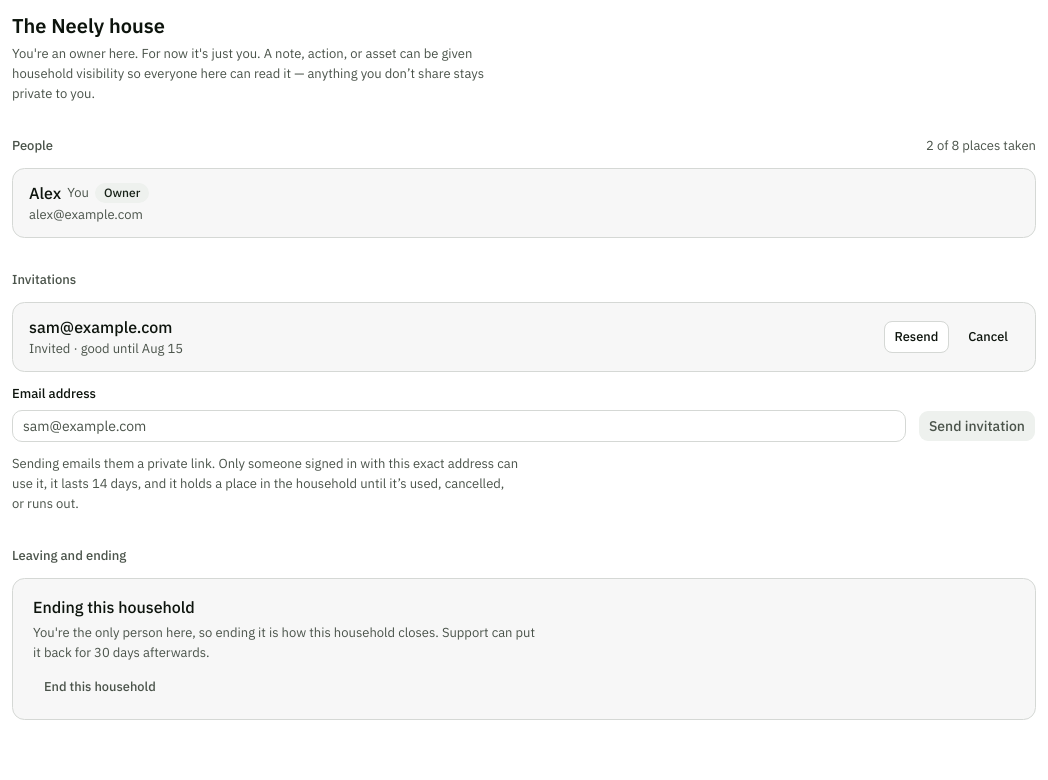
it: household invitations › cancels an invitation and gives the place back
This screenshot has width=1048, height=780.
Click the button "Cancel": (988, 337) left=957, top=321, right=1019, bottom=353
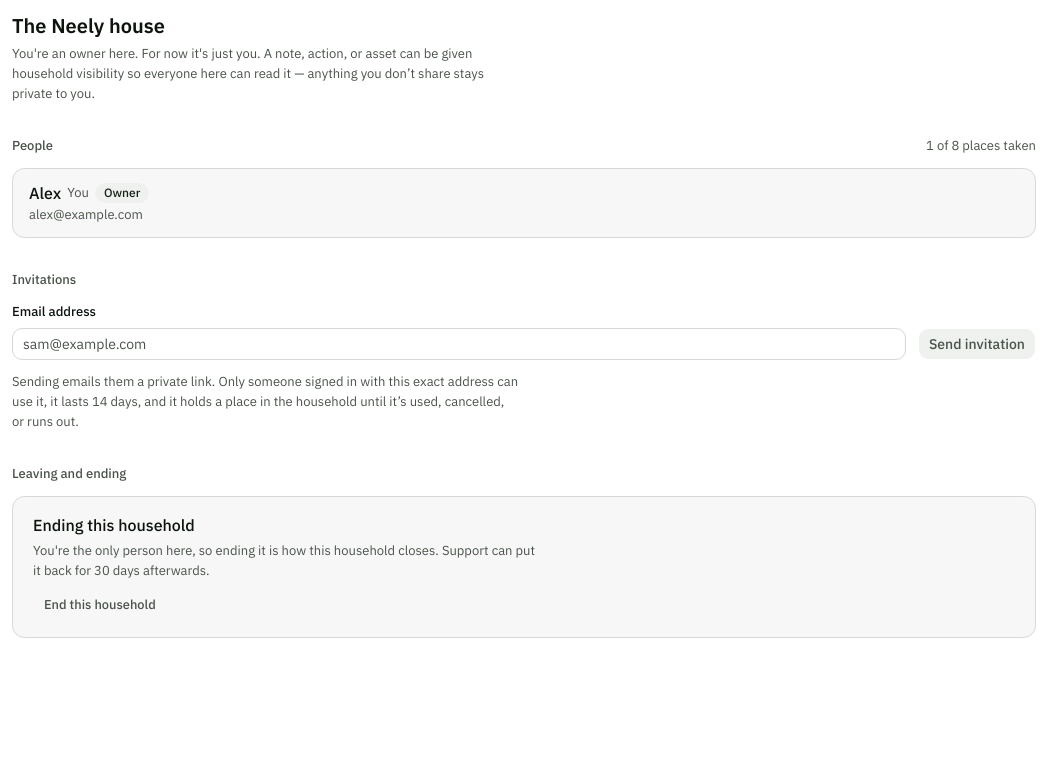
Expected: the text "1 of 8 places taken" is shown, left=926, top=136, right=1036, bottom=156
